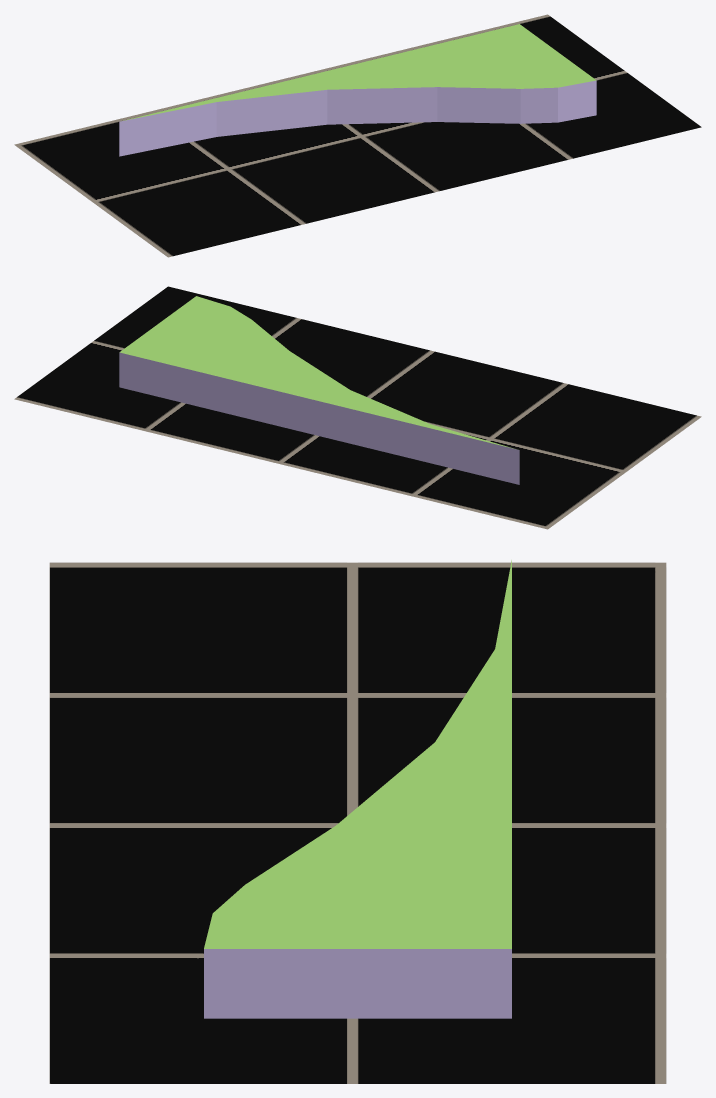
Rendered from Tiered_Grass_Esse_Outside_1x3.glb.
3 renders of one model, top to bottom at view 1: azimuth 30°, elevation 25°; view 2: azimuth 150°, elevation 25°; view 3: azimuth 270°, elevation 25°, orthographic. The views are drawn at different scales.
Parts seen in each view (by area): view 1: Floor, Tiered_Grass_Esse_Outside_1x3; view 2: Floor, Tiered_Grass_Esse_Outside_1x3; view 3: Floor, Tiered_Grass_Esse_Outside_1x3.
Boxes of the visible parts, x1=… form: Floor: x1=14, y1=14, x2=701, y2=257; Tiered_Grass_Esse_Outside_1x3: x1=119, y1=24, x2=596, y2=156; Floor: x1=14, y1=286, x2=701, y2=529; Tiered_Grass_Esse_Outside_1x3: x1=119, y1=296, x2=519, y2=484; Floor: x1=49, y1=562, x2=666, y2=1083; Tiered_Grass_Esse_Outside_1x3: x1=204, y1=560, x2=511, y2=1018.
Bounding box in the file's own units: 400 × 25 × 200.
4 materials, 1 textured.
